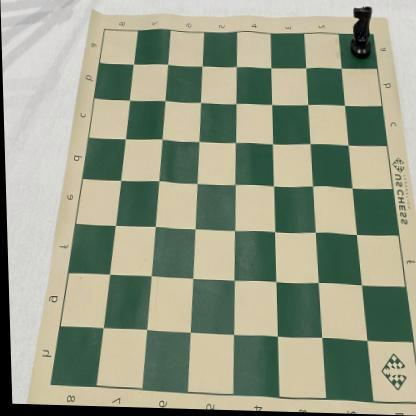black-knight: (347, 5, 374, 60)
